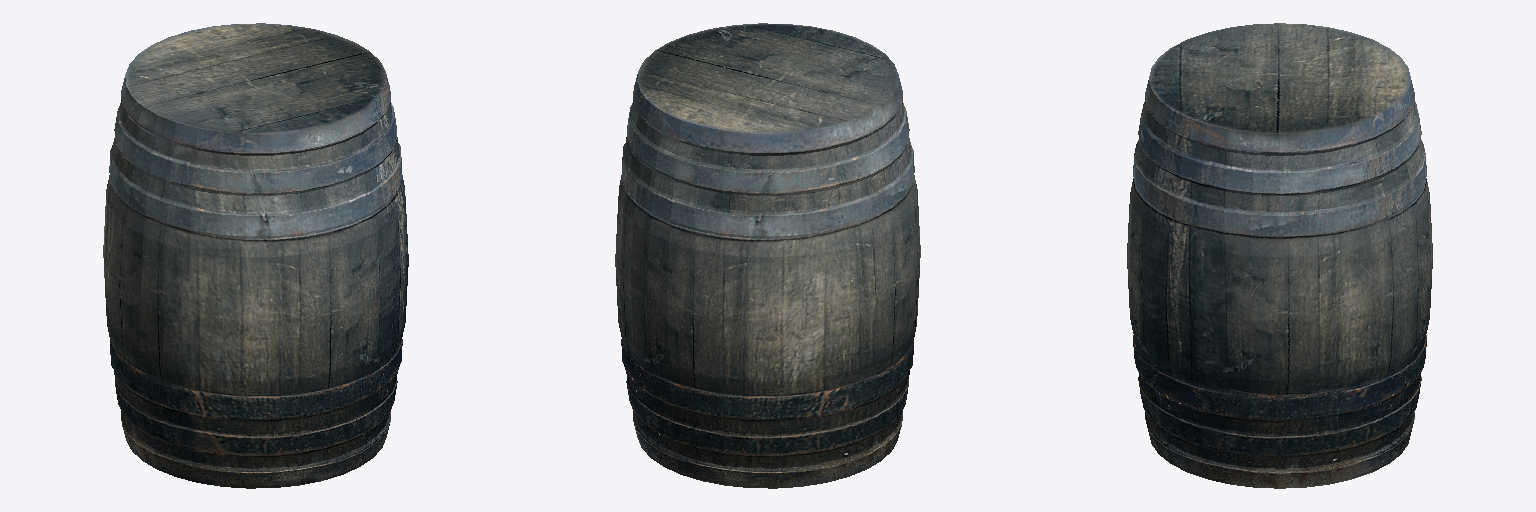
3 renders of one model, left to right at view 1: azimuth 30°, elevation 25°; view 2: azimuth 150°, elevation 25°; view 3: azimuth 270°, elevation 25°, orthographic.
Visible parts, largest first — view 1: Mesh_Mesh_Cylinder.001; view 2: Mesh_Mesh_Cylinder.001; view 3: Mesh_Mesh_Cylinder.001.
Part boxes in pixels (bbox=[...]): Mesh_Mesh_Cylinder.001: bbox=[103, 23, 408, 488]; Mesh_Mesh_Cylinder.001: bbox=[615, 23, 920, 488]; Mesh_Mesh_Cylinder.001: bbox=[1127, 23, 1432, 488].
Size of the model in its own units: 1.51 by 1.93 by 1.51.
Materials: 1 (1 with a texture image).